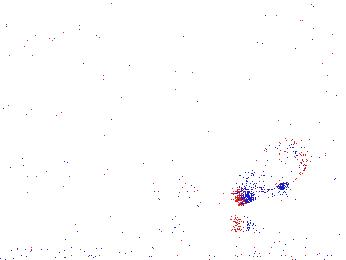flame jellyfish: (234, 138, 306, 206), (97, 170, 162, 226), (162, 171, 220, 228)
